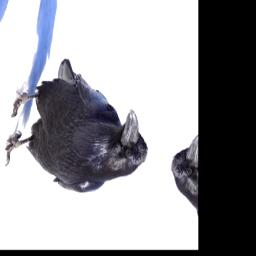Crow: (0, 45, 165, 212)
